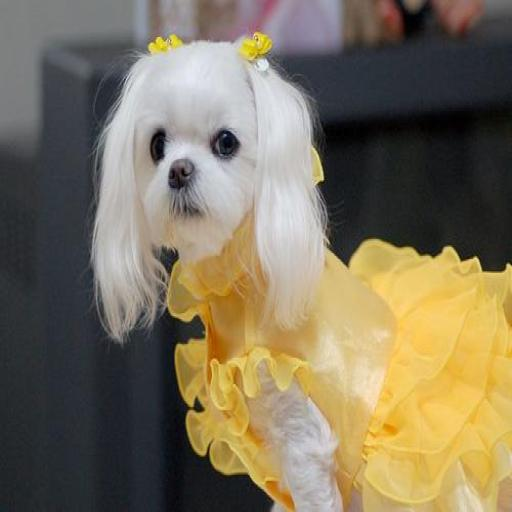dog_face: (94, 38, 322, 326)
